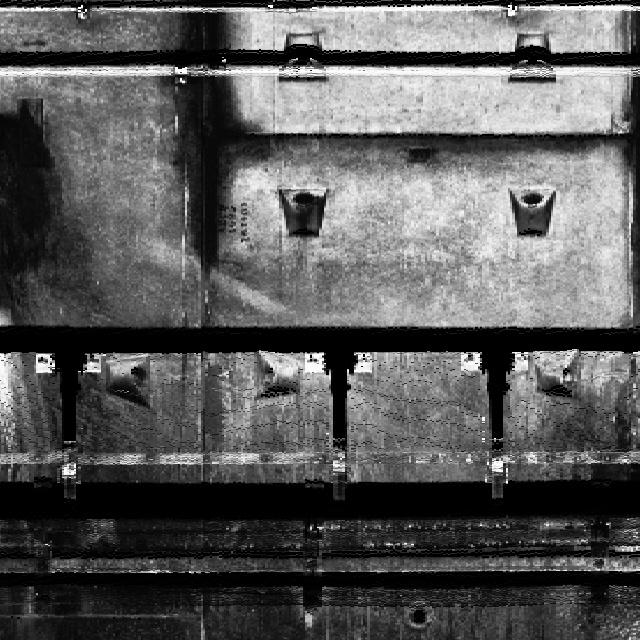leakage: (152, 0, 276, 277), (3, 96, 95, 325)
